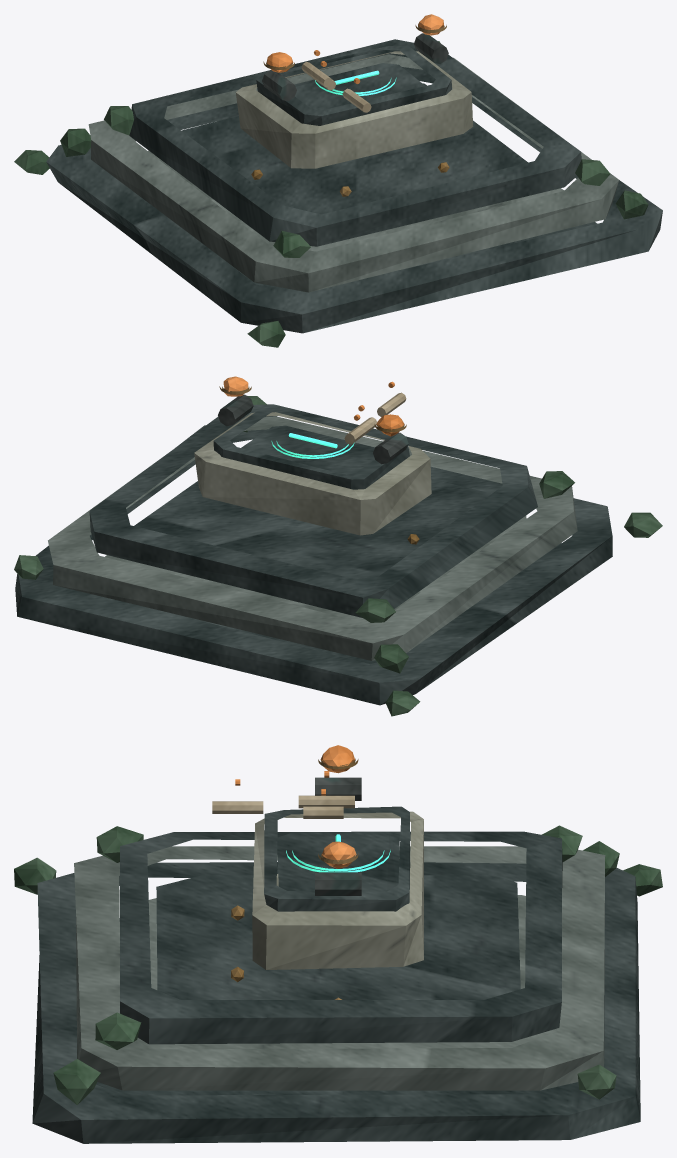
File: 0455_altar_05.glb
3 views of the same model, one above another, from view 1: azimuth 30°, elevation 25°; view 2: azimuth 150°, elevation 25°; view 3: azimuth 270°, elevation 25° (orthographic). The views are drawn at different scales.
Visible parts, largest first — view 1: stone_dark, stone, stone_light, moss, iron, amber, bone, brass; view 2: stone_dark, stone, stone_light, moss, iron, amber, bone, glow; view 3: stone_dark, stone, stone_light, moss, iron, bone, amber, brass, glow.
Part boxes in pixels (<box>): stone_dark: <box>46,39,662,333</box>; stone: <box>88,54,619,292</box>; stone_light: <box>235,51,473,168</box>; moss: <box>14,41,648,347</box>; iron: <box>262,33,448,101</box>; amber: <box>266,14,443,83</box>; bone: <box>301,62,371,112</box>; brass: <box>251,25,449,196</box>; stone_dark: <box>15,404,612,705</box>; stone: <box>48,416,577,660</box>; stone_light: <box>194,412,431,535</box>; moss: <box>14,396,662,716</box>; iron: <box>218,394,408,464</box>; amber: <box>223,376,404,436</box>; bone: <box>344,392,406,444</box>; glow: <box>271,433,354,458</box>; stone_dark: <box>32,806,640,1143</box>; stone: <box>74,846,605,1090</box>; stone_light: <box>252,811,423,969</box>; moss: <box>14,825,662,1104</box>; iron: <box>315,777,361,895</box>; bone: <box>212,795,354,818</box>; amber: <box>235,745,356,868</box>; brass: <box>231,758,358,999</box>; glow: <box>286,834,390,872</box>.
Size of the model in its own units: 3.26 by 1.27 by 3.35.
Materials: 9 (9 with a texture image).
